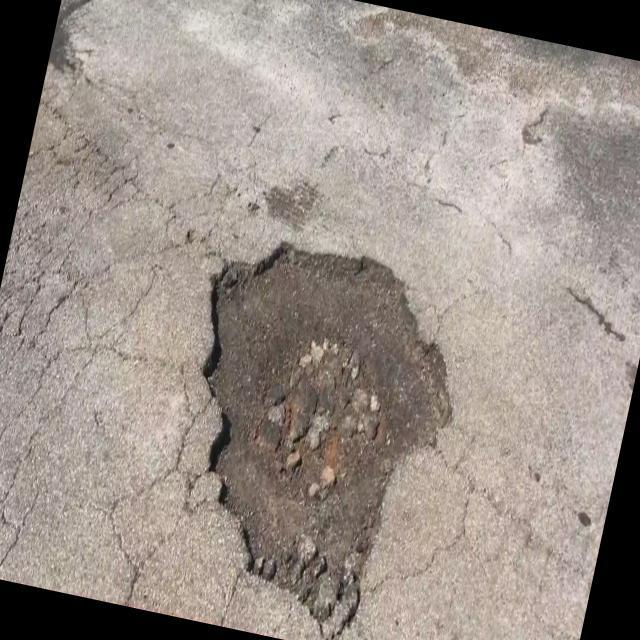Pothole: (123, 175, 507, 640)
